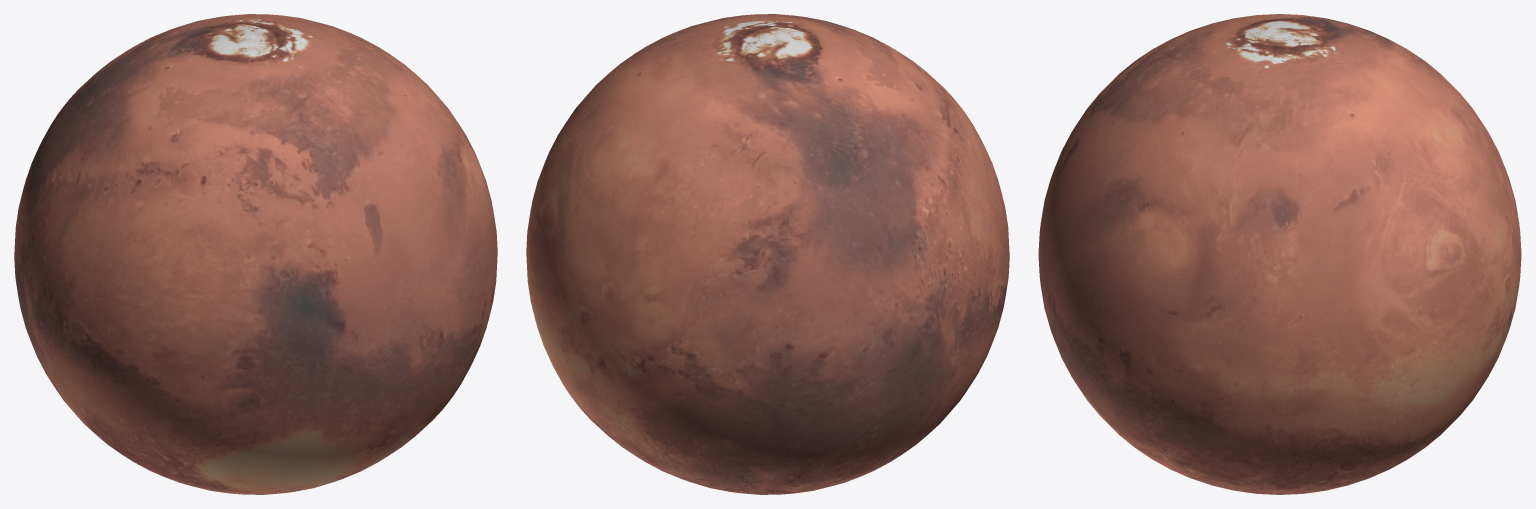
Rendered from mars.glb.
3 renders of one model, left to right at view 1: azimuth 30°, elevation 25°; view 2: azimuth 150°, elevation 25°; view 3: azimuth 270°, elevation 25°, orthographic.
Visible parts, largest first — view 1: Cube.008; view 2: Cube.008; view 3: Cube.008.
Part boxes in pixels (x1,y1,x2,y2): Cube.008: (14, 14, 497, 494); Cube.008: (526, 14, 1009, 494); Cube.008: (1038, 14, 1521, 494).
Bounding box in the file's own units: 25 × 24.85 × 25.
Materials: 2 (1 with a texture image).
